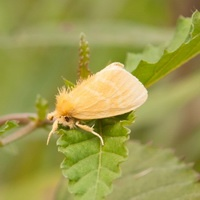insect: (47, 62, 147, 143)
